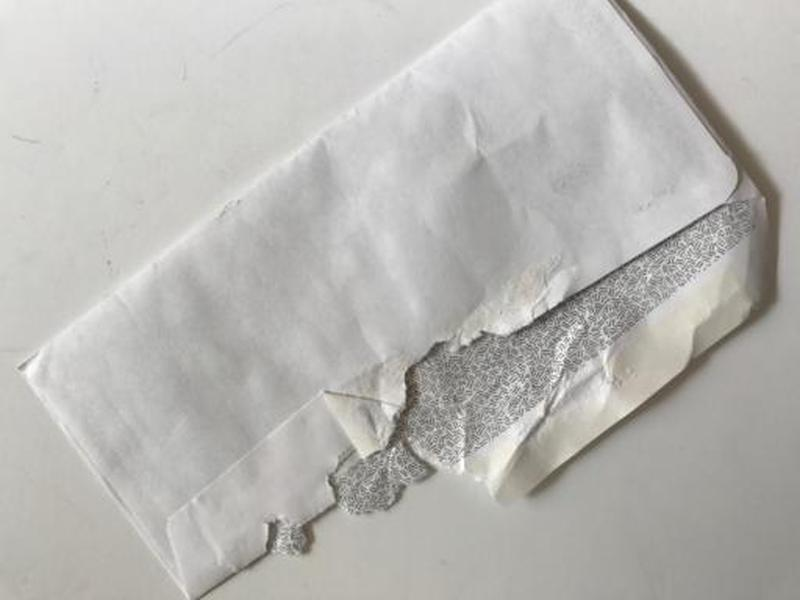paper: (13, 4, 778, 600)
